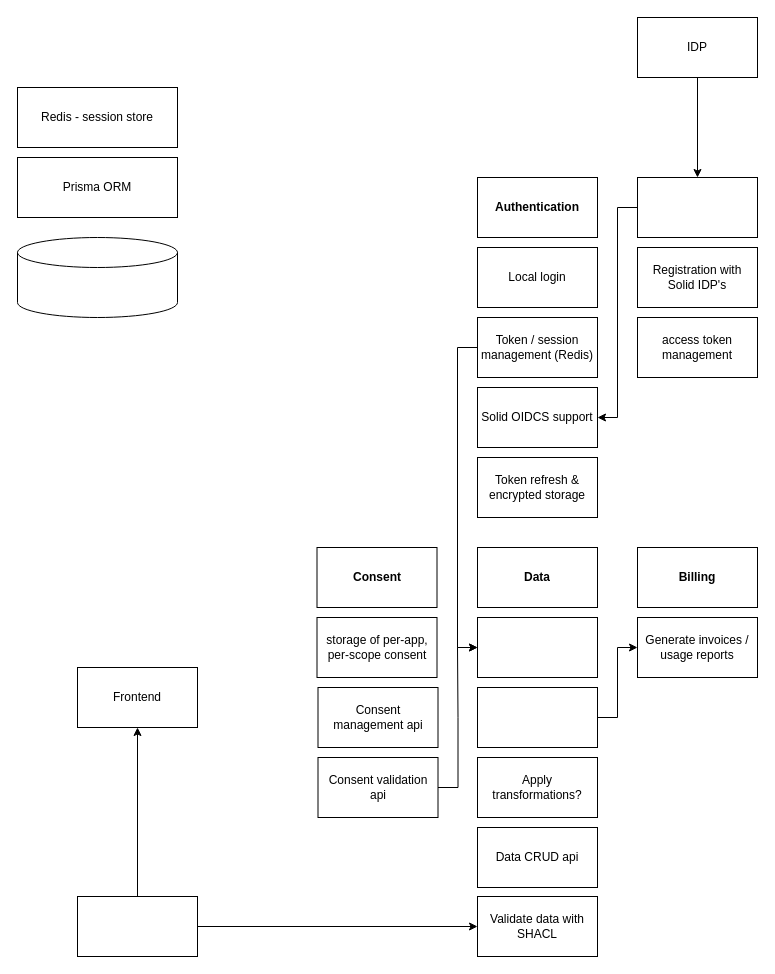
Image size: 775x974. Some labels were removed from this diagram. The shapes that lost their labels are listed below. From the top down, each one's centre as x and y in pixels, then its label:
At (x=697, y=207): "Solid Client".
At (x=97, y=277): "SQLite database (should later become PostgreSQL)".
At (x=537, y=647): "Fetch data (after validating consent)".
At (x=537, y=717): "Log access".
At (x=137, y=926): "SHACL schemas".
